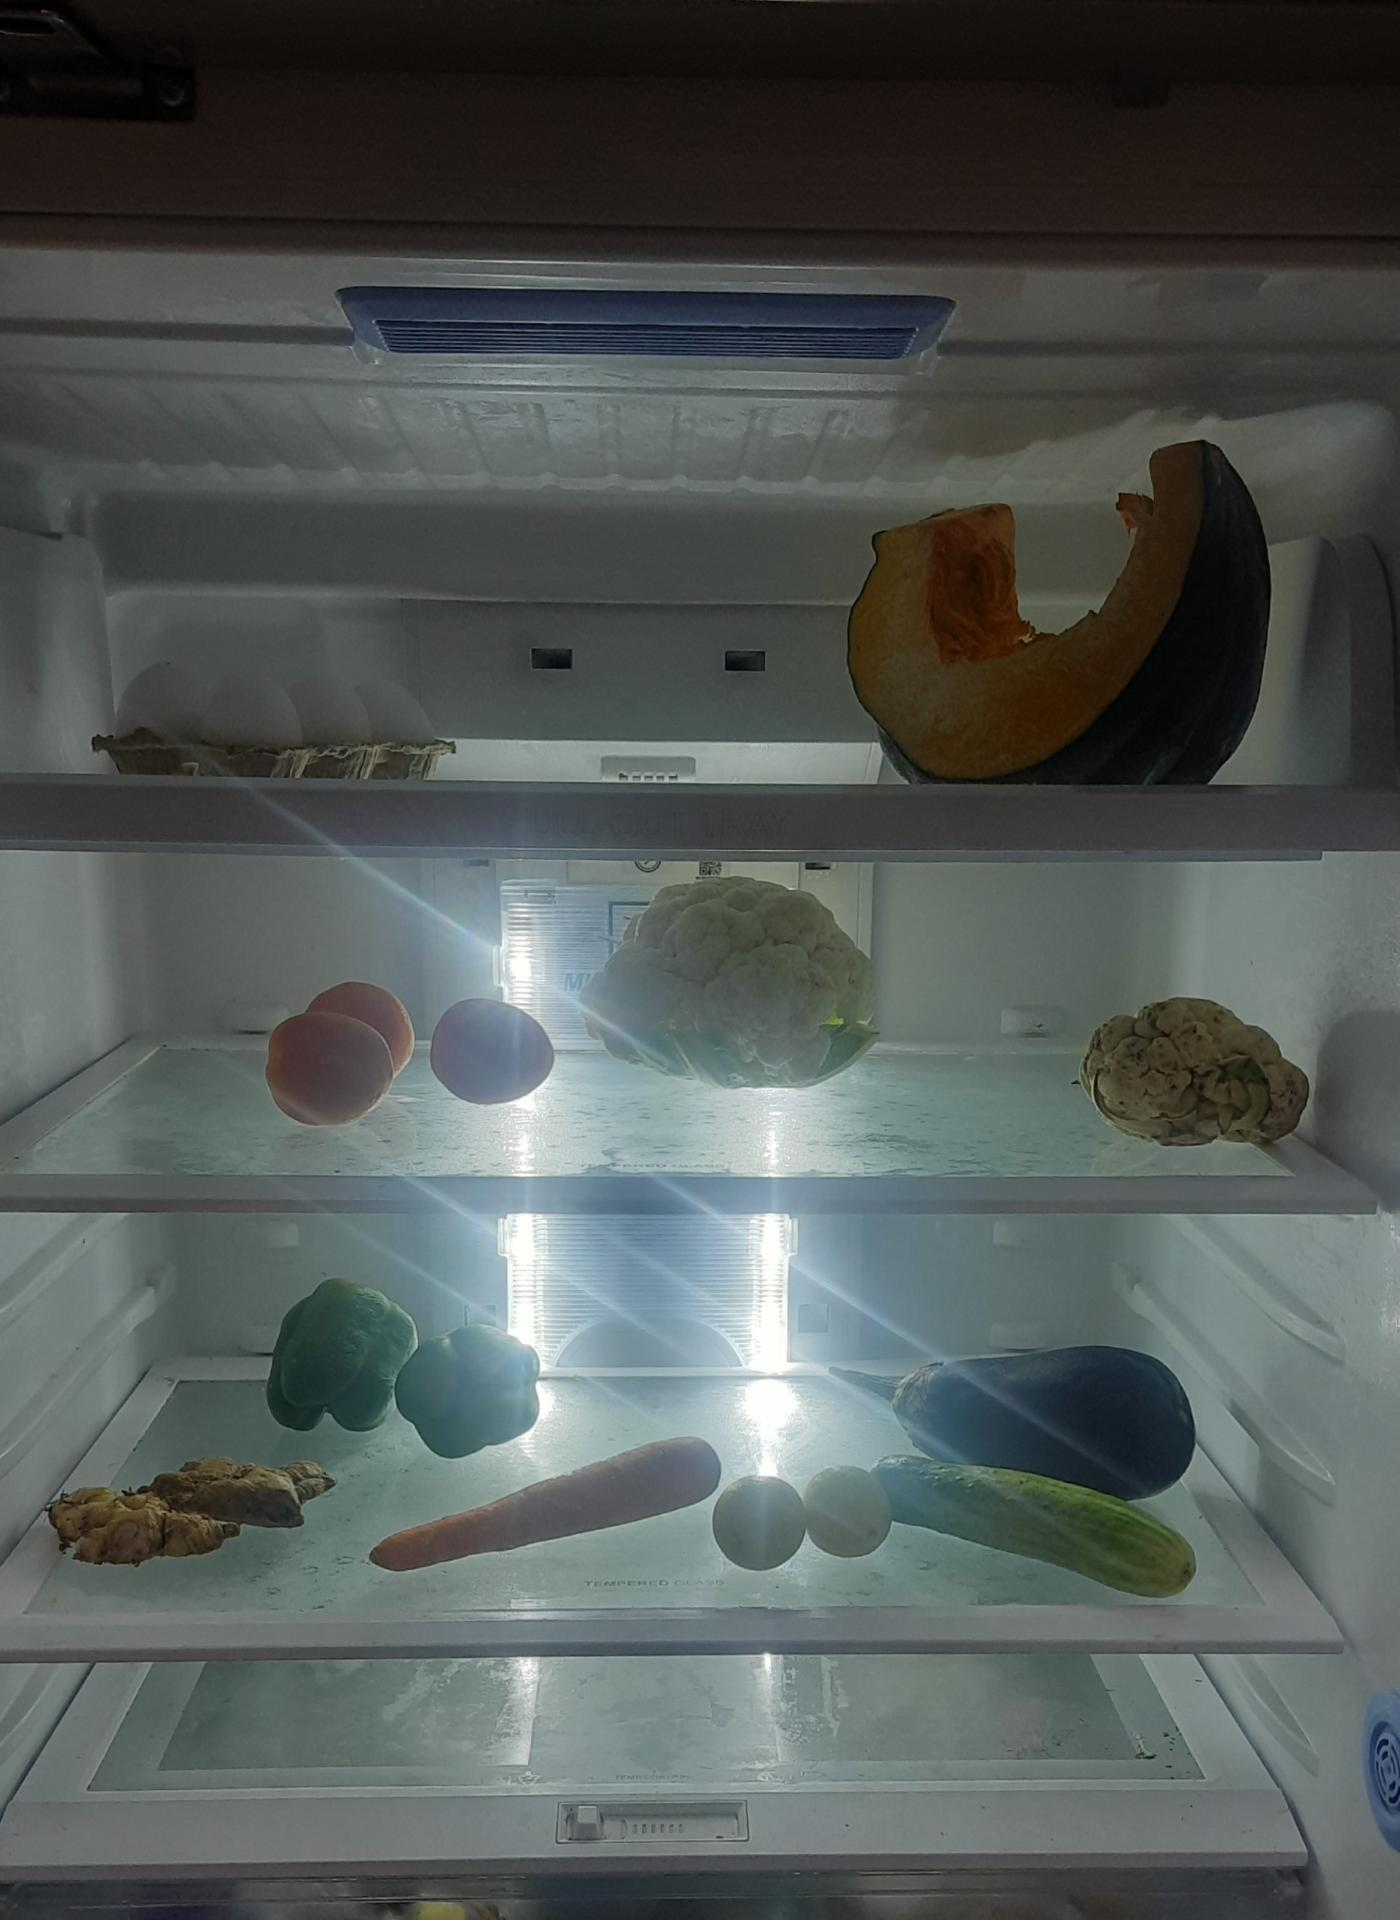brinjal: (816, 1336, 1202, 1506)
capsicum: (273, 1286, 553, 1459)
carrots: (367, 1439, 728, 1580)
cauliflower: (580, 869, 878, 1087), (1078, 994, 1308, 1146)
cucumber: (877, 1464, 1203, 1592)
egg: (82, 641, 450, 783)
ginger: (52, 1450, 331, 1564)
lemon: (716, 1470, 902, 1571)
pumpkin: (841, 443, 1278, 789)
tomato: (265, 984, 420, 1131), (426, 985, 561, 1124)
